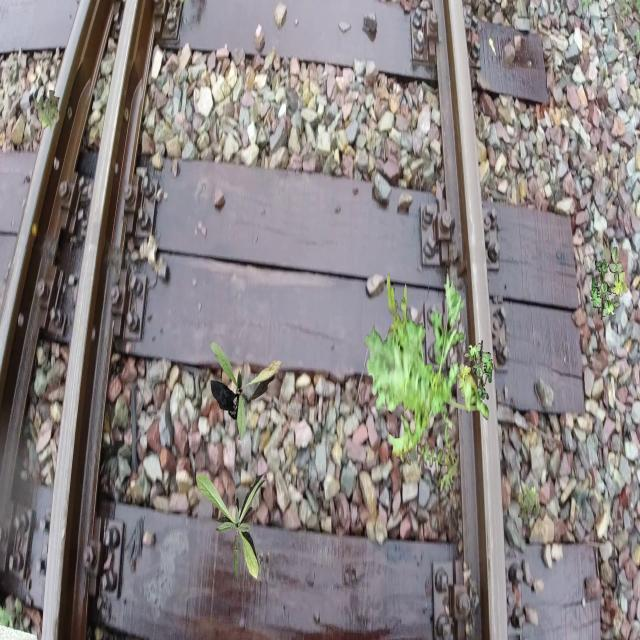Plant: (364, 270, 489, 466), (196, 472, 268, 580), (210, 341, 282, 441), (417, 422, 458, 494), (456, 340, 494, 413), (590, 247, 628, 320), (34, 90, 60, 132), (518, 482, 544, 524)
